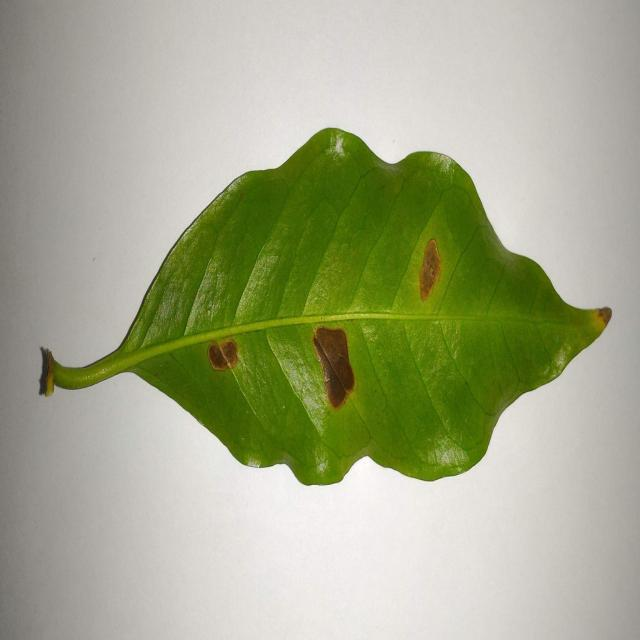miner: (313, 326, 355, 409), (419, 238, 441, 301), (207, 338, 238, 370)
